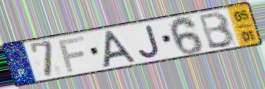6: (168, 15, 206, 57)
7: (27, 40, 57, 80)
A: (102, 29, 139, 69)
B: (198, 10, 237, 51)
F: (57, 35, 87, 75)
J: (137, 23, 162, 59)
